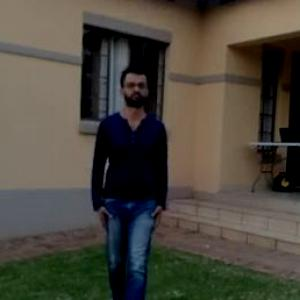follow: (92, 59, 171, 299)
